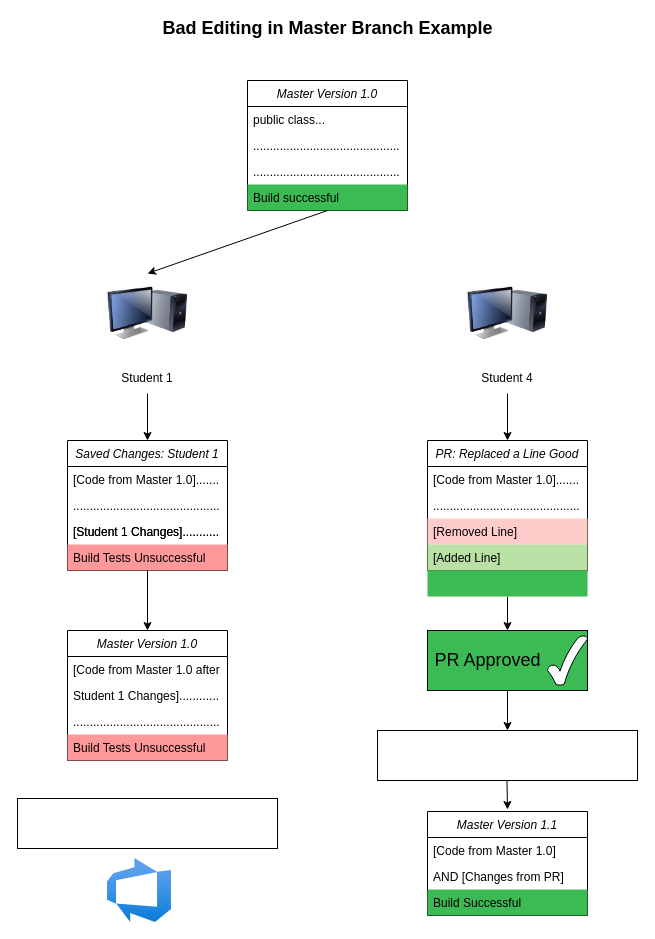
The diagram is 655 pixels wide and 939 high, and some of its shapes have lost their labels. The shapes that lost their labels are listed below. From the top down, each one's centre as x and y in pixels, then its label:
point 507,583: Build Test Successful
point 507,755: Merged PR: "Replaced a Line"
point 147,823: Master Version 1.0 Updates Without Notification
